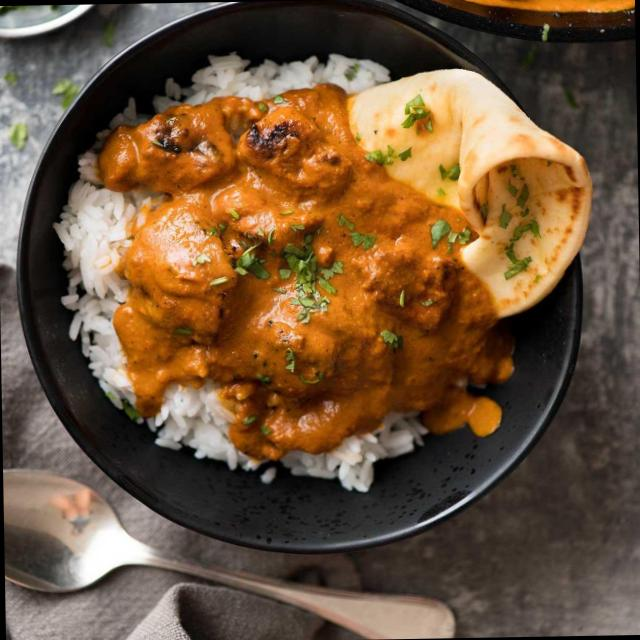chicken: (124, 110, 521, 443)
rice: (38, 158, 129, 386), (205, 53, 378, 93), (166, 388, 234, 467)
roti: (362, 81, 573, 254)
